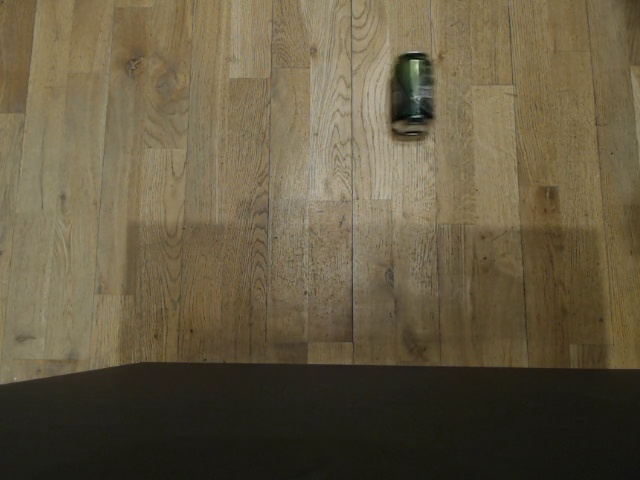beer: (385, 50, 437, 141)
